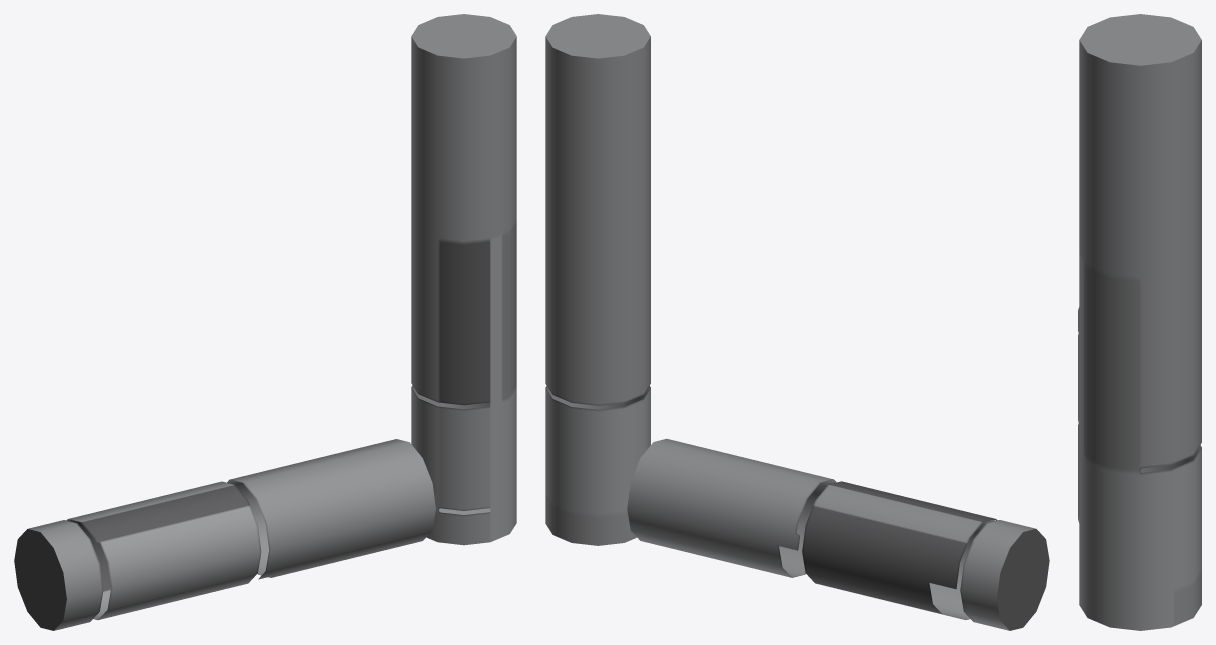
3 renders of one model, left to right at view 1: azimuth 30°, elevation 25°; view 2: azimuth 150°, elevation 25°; view 3: azimuth 270°, elevation 25°, orthographic. The views are drawn at different scales.
Size of the model in its own units: 1.02 by 1.01 by 0.2.
